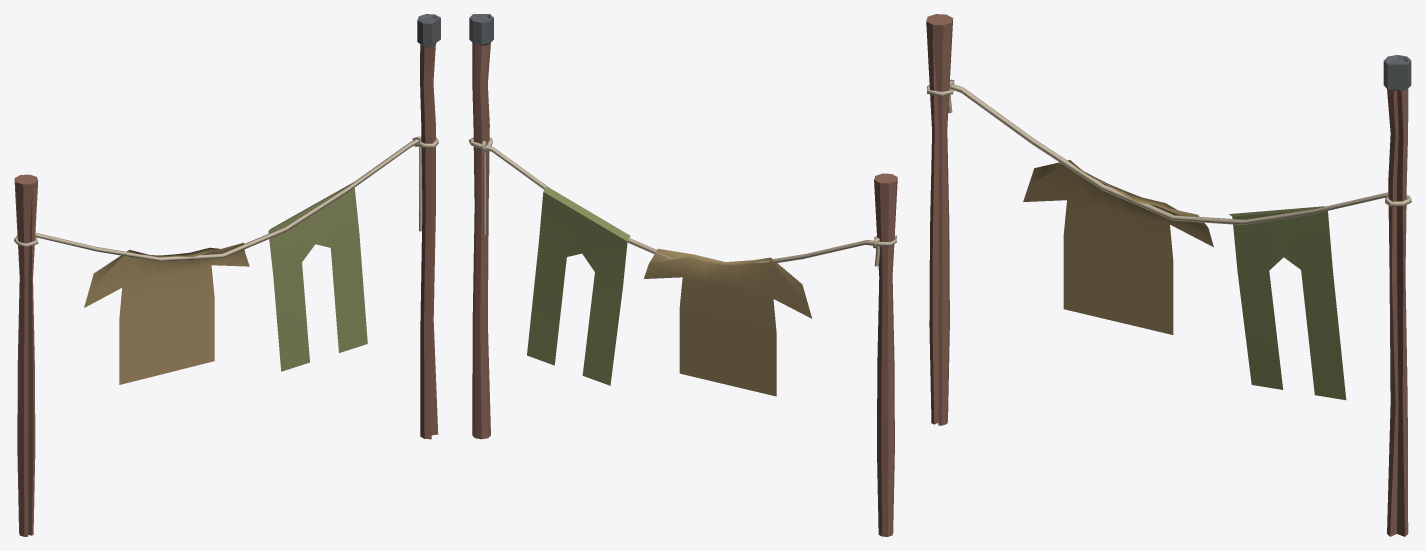
File: SM_Cloth_Hang_Line.fbx
3 renders of one model, left to right at view 1: azimuth 30°, elevation 25°; view 2: azimuth 150°, elevation 25°; view 3: azimuth 330°, elevation 25°, orthographic. The views are drawn at different scales.
Visible parts, largest first — view 1: SM_Cloth_Hang_Line; view 2: SM_Cloth_Hang_Line; view 3: SM_Cloth_Hang_Line.
Boxes of the visible parts, x1,y1,x2,y2 form: SM_Cloth_Hang_Line: (14,14,440,536); SM_Cloth_Hang_Line: (469,14,897,536); SM_Cloth_Hang_Line: (926,14,1411,536).
Size of the model in its own units: 291 by 274 by 19.11.
